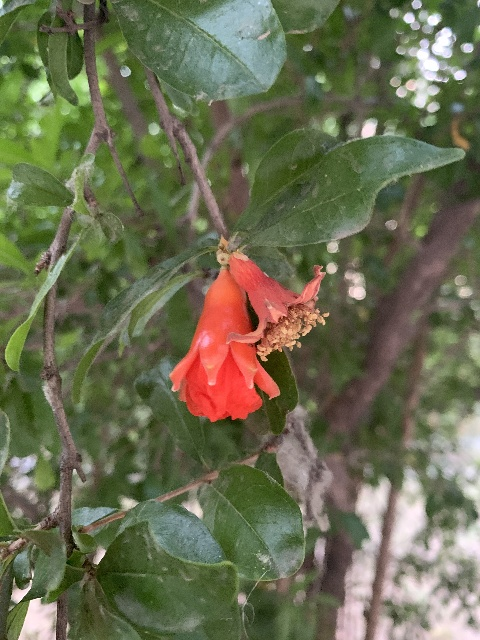flower: (170, 267, 277, 422)
